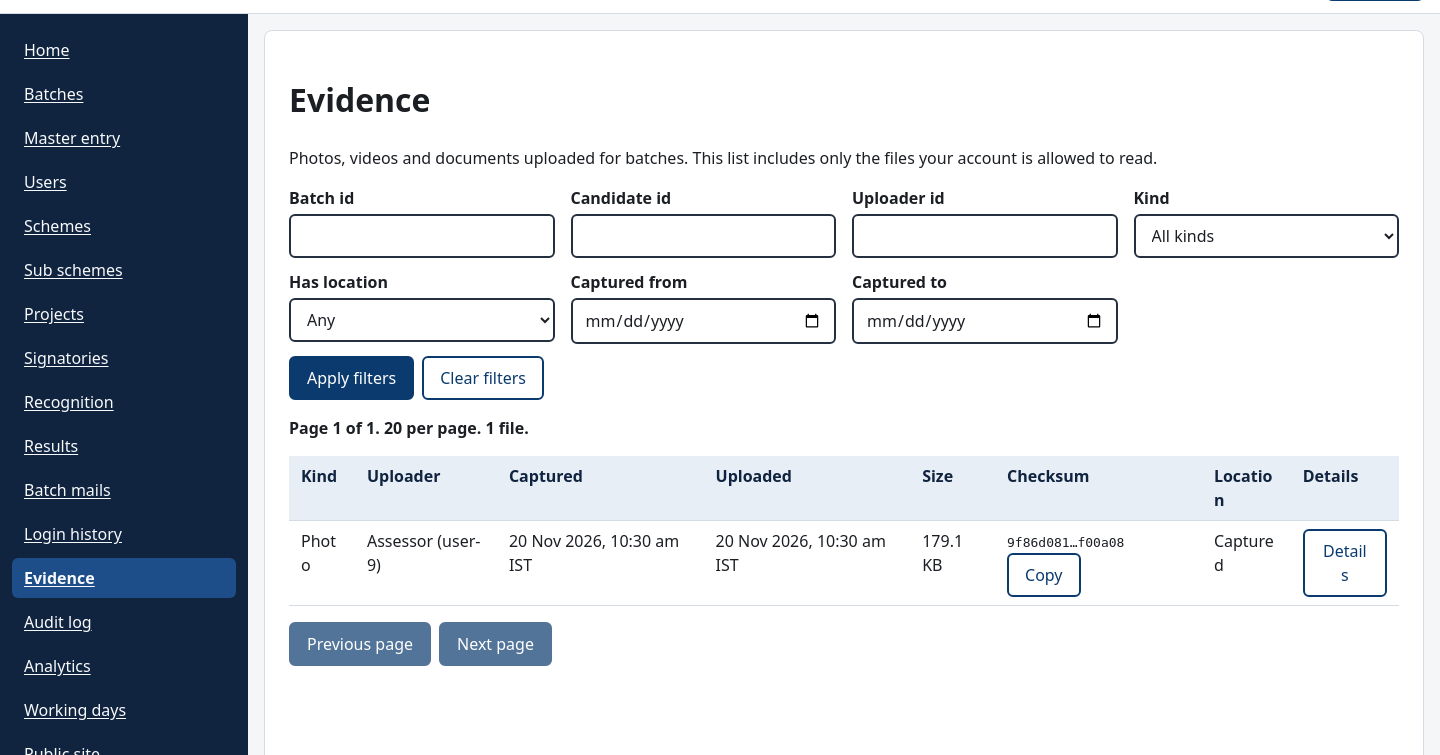
it: closes the detail with Escape and returns focus to the Details button
The width and height of the screenshot is (1440, 755).
Step 1. Click the button with aria-label "Details for" → coordinates (1345, 563), box x1=1303 y1=529 x2=1387 y2=597
(page scrolled)
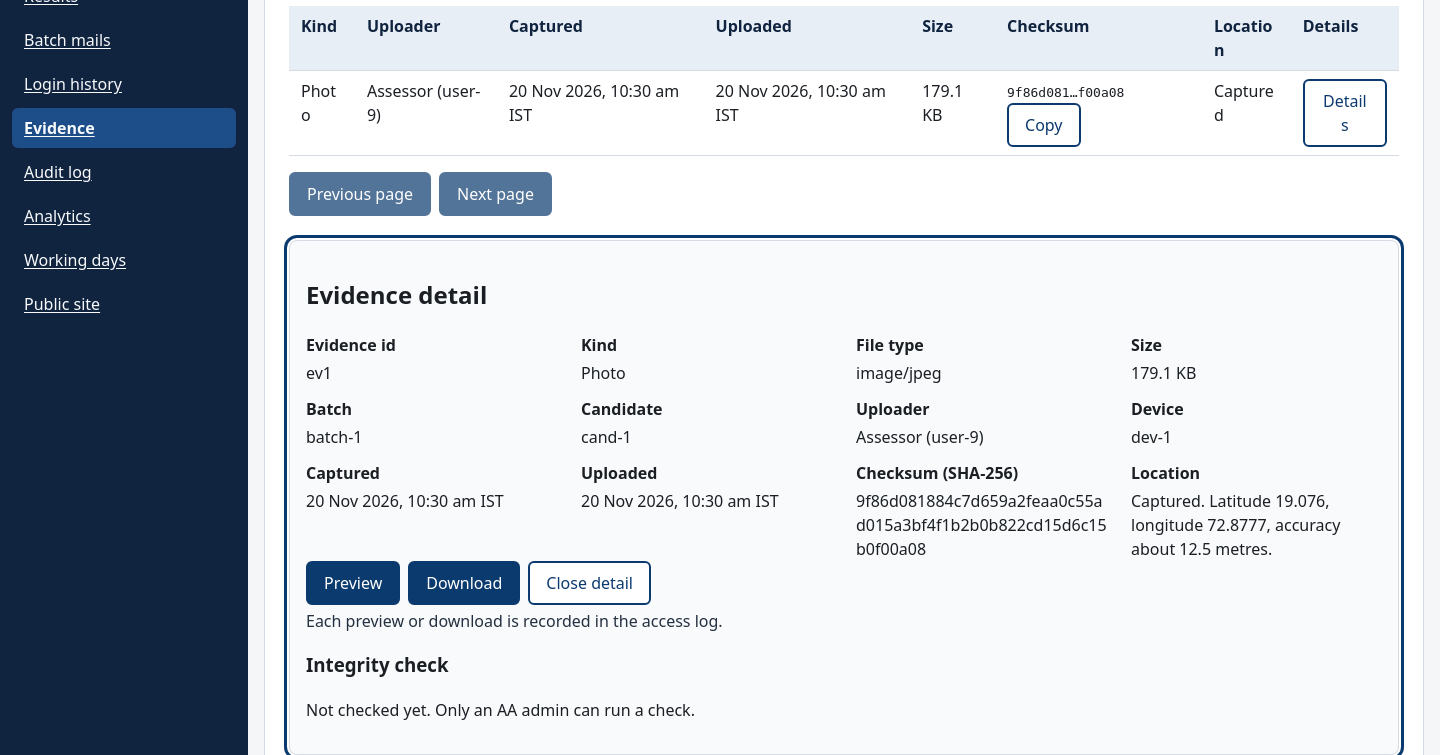
Expected: the element "Evidence detail" is shown, x1=289 y1=240 x2=1399 y2=754
Step 2. Press Escape
(page scrolled)
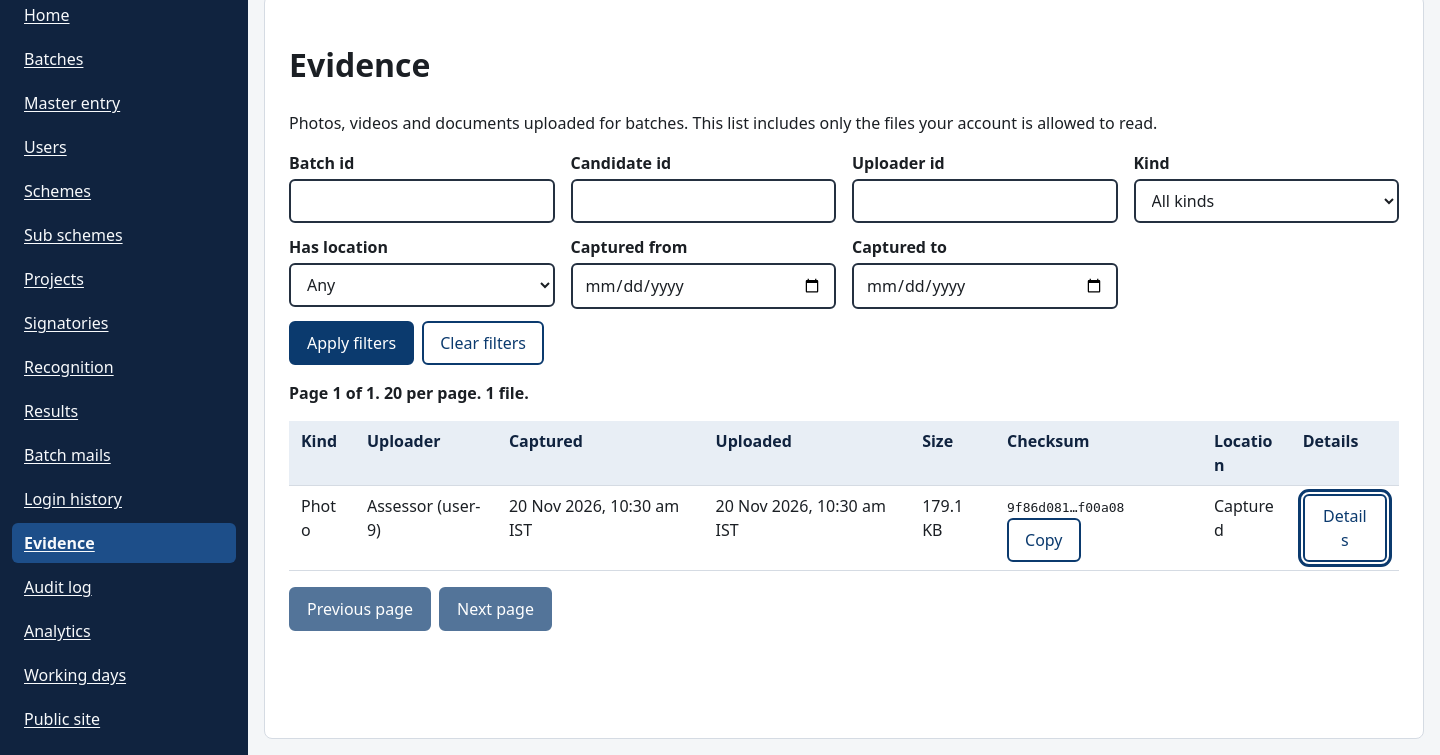
Expected: the heading "Evidence detail" is gone
